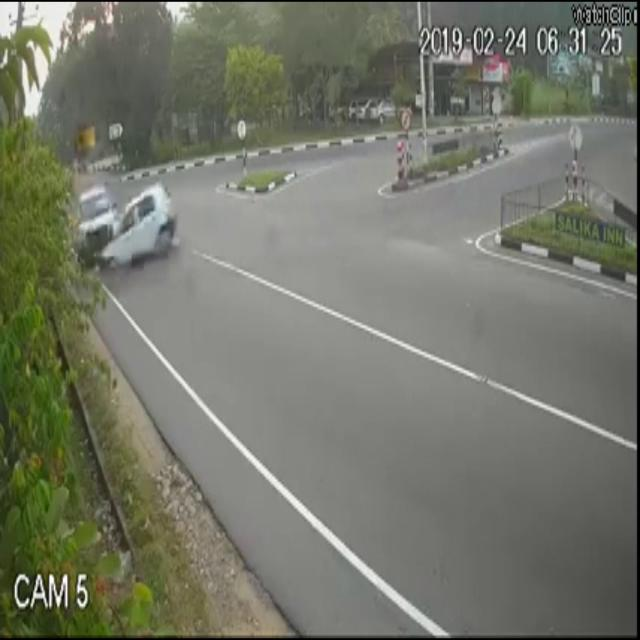accident: (70, 185, 187, 274)
